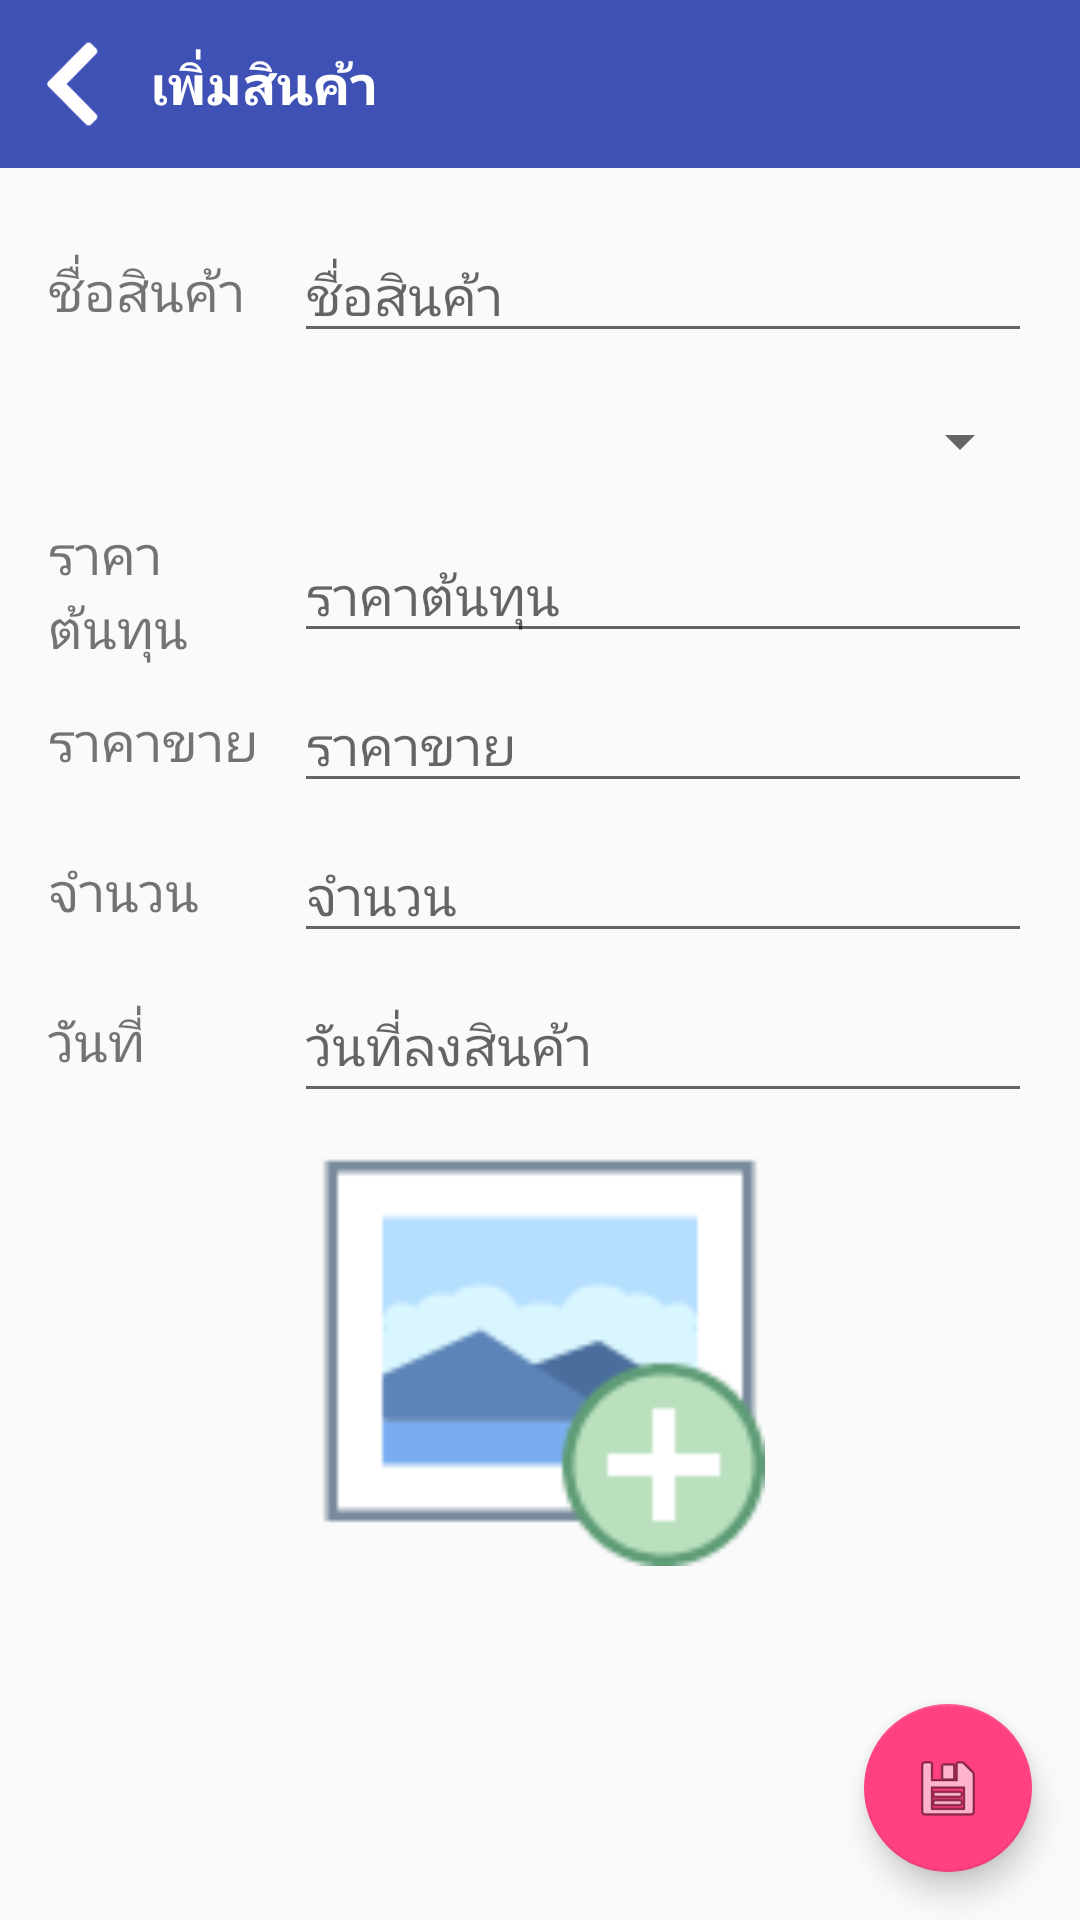

Screen size 1080px×1920px. Icon name, then its center in pixels as [x,y]:
back: [72,84]
save: [948,1788]
